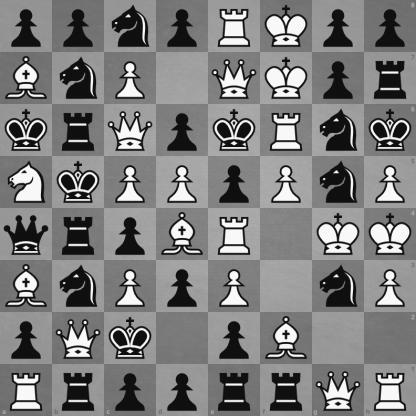B: (1, 53, 52, 104), (1, 261, 52, 312), (157, 209, 208, 260), (261, 313, 312, 364)
K: (364, 209, 416, 260), (261, 1, 312, 52), (261, 53, 312, 104), (313, 209, 364, 260)
N: (1, 157, 52, 208)
P: (364, 156, 416, 209), (364, 260, 416, 312), (105, 53, 156, 104), (105, 157, 156, 208), (105, 261, 156, 312), (157, 157, 208, 208), (209, 261, 260, 312), (261, 157, 312, 208)
Q: (312, 364, 364, 416), (53, 313, 104, 364), (105, 105, 156, 156), (209, 53, 260, 104)
R: (0, 364, 52, 416), (364, 364, 416, 416), (209, 1, 260, 52), (209, 209, 260, 260), (261, 105, 312, 156)
board: (0, 0, 415, 415)
k: (364, 104, 416, 156), (1, 105, 52, 156), (53, 157, 104, 208), (105, 313, 156, 364), (209, 105, 260, 156)
n: (53, 53, 104, 104), (53, 261, 104, 312), (105, 1, 156, 52), (313, 105, 364, 156), (313, 157, 364, 208), (313, 261, 364, 312)
p: (156, 364, 209, 416), (104, 364, 156, 416), (364, 0, 416, 52), (1, 1, 52, 52), (1, 313, 52, 364), (53, 1, 104, 52), (105, 209, 156, 260), (157, 1, 208, 52), (157, 105, 208, 156), (157, 261, 208, 312), (209, 157, 260, 208), (209, 313, 260, 364), (313, 1, 364, 52), (313, 53, 364, 104)
q: (1, 209, 52, 260)
r: (52, 364, 104, 416), (260, 364, 312, 416), (364, 52, 416, 104), (209, 364, 260, 416), (53, 105, 104, 156), (53, 209, 104, 260)
